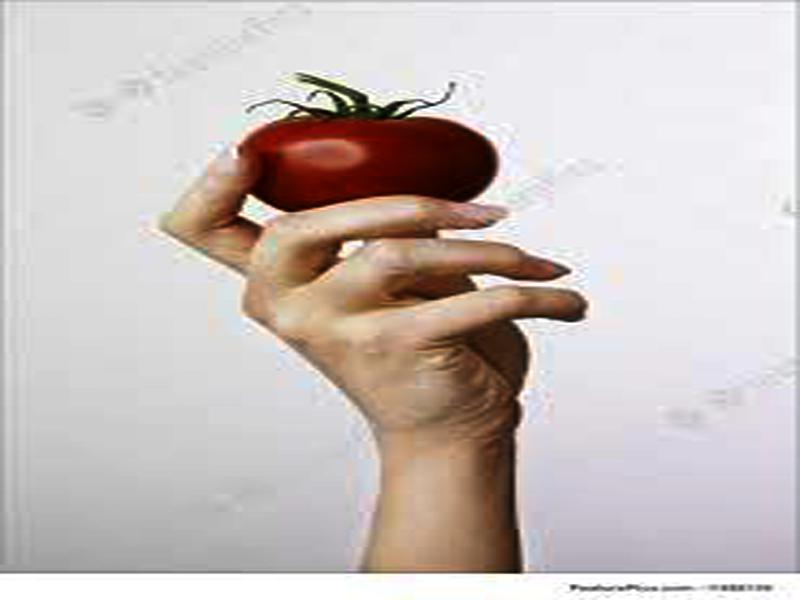Tomato: (242, 75, 493, 210)
